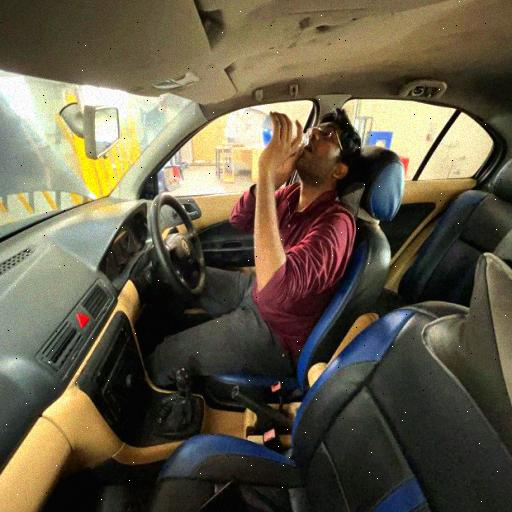Drinking: (188, 106, 365, 345)
